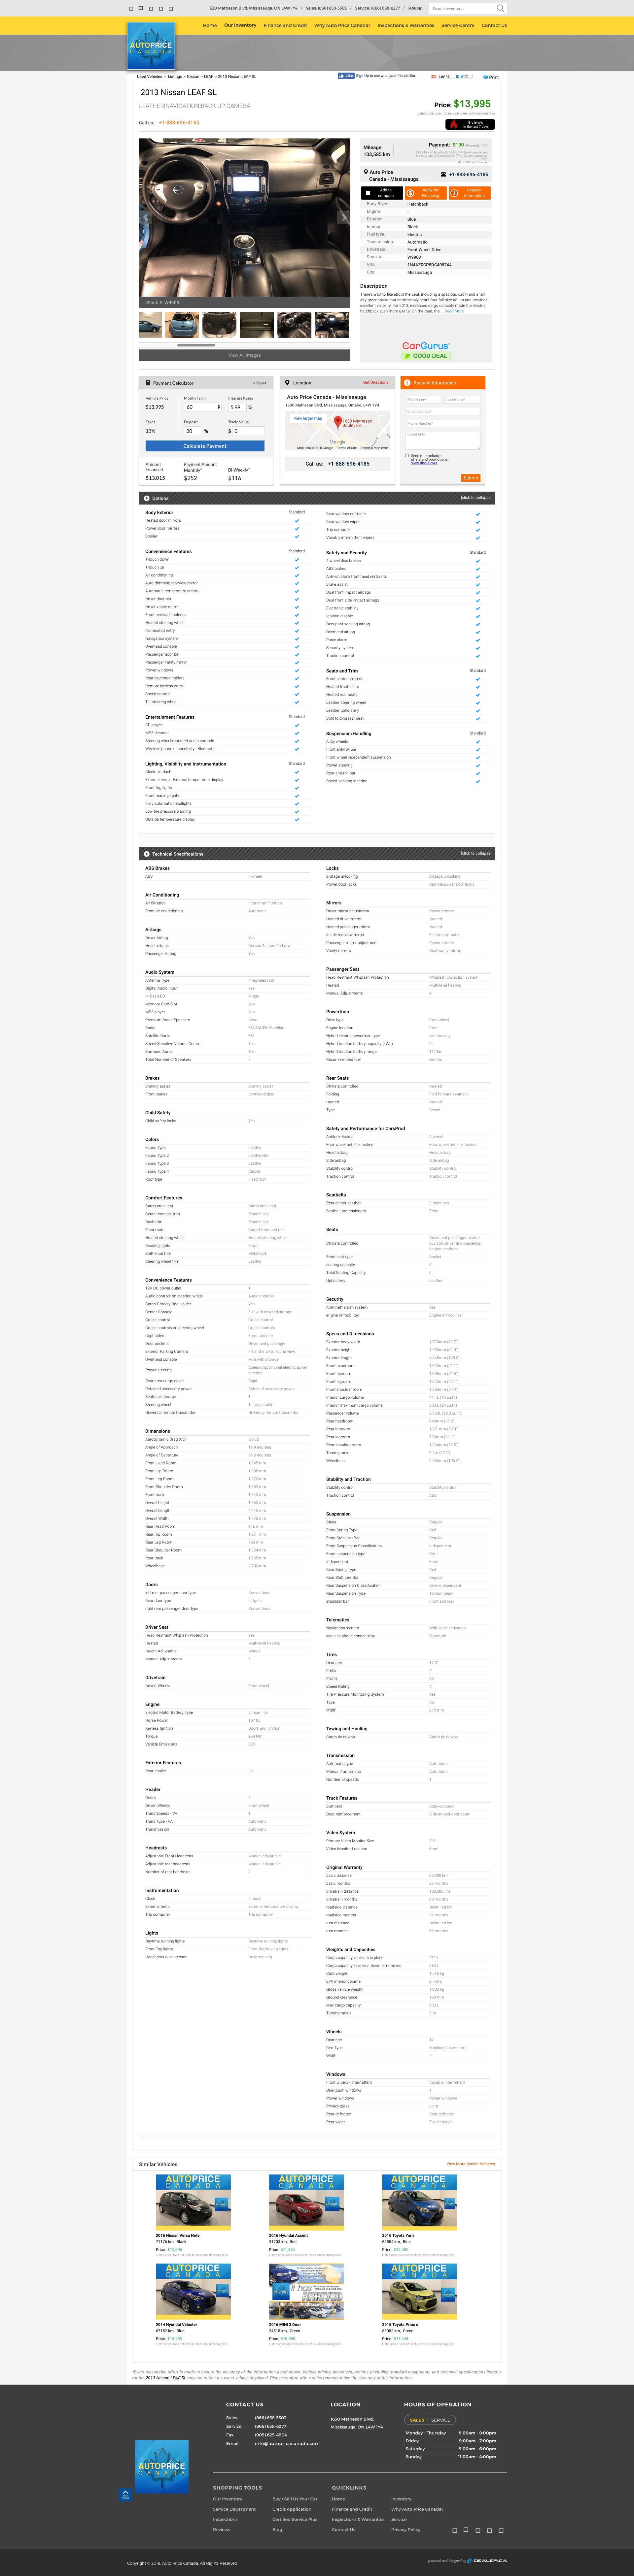car: (337, 210, 351, 225)
